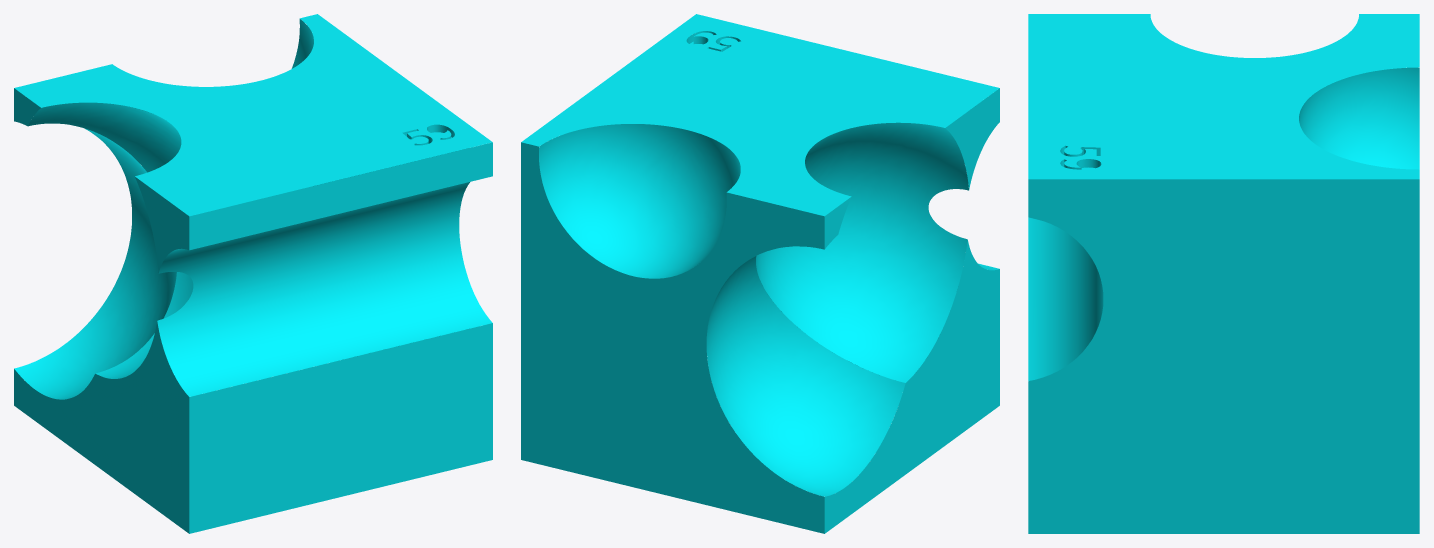
3 views of the same model, side by side, from view 1: azimuth 30°, elevation 25°; view 2: azimuth 150°, elevation 25°; view 3: azimuth 270°, elevation 25° (orthographic). The views are drawn at different scales.
Parts seen in each view (by area): view 1: 70_vars_w-txt; view 2: 70_vars_w-txt; view 3: 70_vars_w-txt.
Boxes of the visible parts, x1,y1,x2,y2 form: 70_vars_w-txt: (14, 14, 492, 533); 70_vars_w-txt: (521, 14, 999, 533); 70_vars_w-txt: (1028, 14, 1419, 533).
Size of the model in its own units: 0.042 by 0.042 by 0.042.
